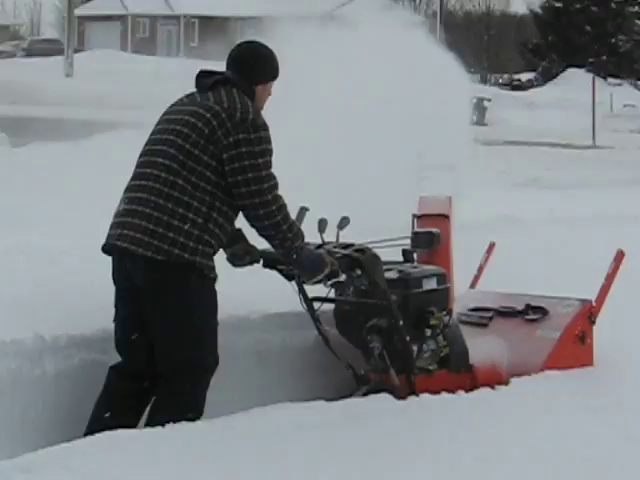person: (83, 40, 326, 437)
